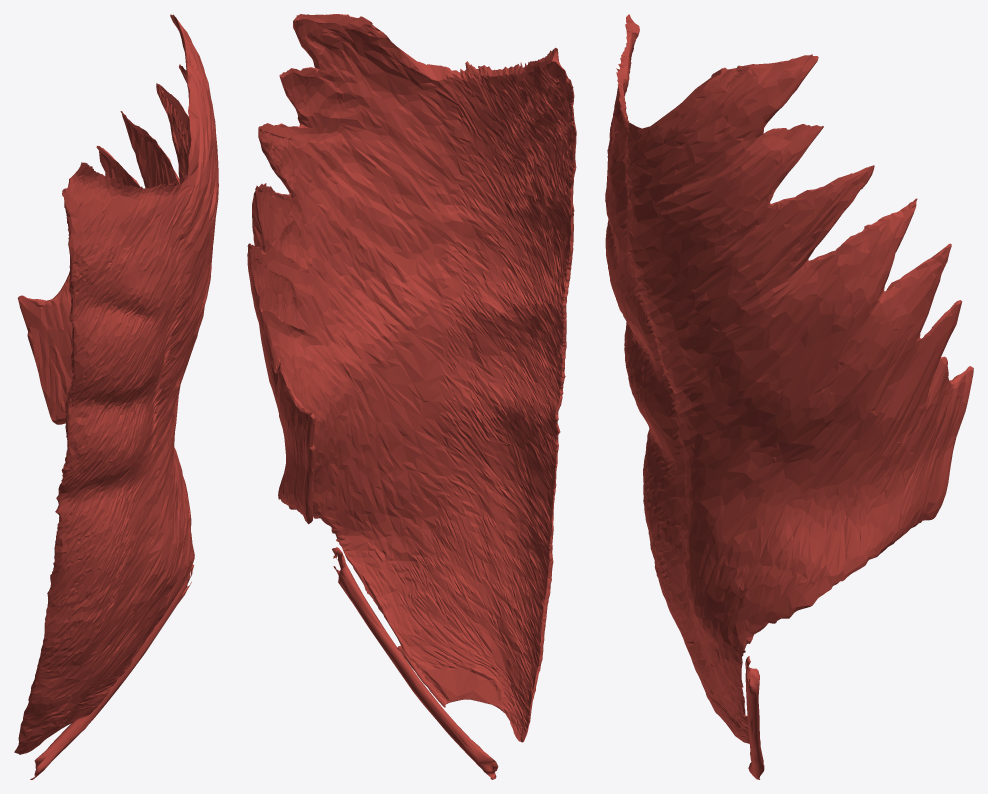
File: musculos-external-abdominal-oblique-muscle-l.glb
3 renders of one model, left to right at view 1: azimuth 30°, elevation 25°; view 2: azimuth 150°, elevation 25°; view 3: azimuth 270°, elevation 25°, orthographic. The views are drawn at different scales.
Visible parts, largest first — view 1: External abdominal oblique muscle.l, Inguinal ligament.l; view 2: External abdominal oblique muscle.l, Inguinal ligament.l; view 3: External abdominal oblique muscle.l, Inguinal ligament.l.
Part boxes in pixels (<box>): External abdominal oblique muscle.l: <box>14,14,218,754</box>; Inguinal ligament.l: <box>30,564,193,779</box>; External abdominal oblique muscle.l: <box>247,14,576,742</box>; Inguinal ligament.l: <box>332,547,498,779</box>; External abdominal oblique muscle.l: <box>605,14,973,743</box>; Inguinal ligament.l: <box>745,656,764,779</box>.
Bounding box in the file's own units: 0.1362 × 0.4408 × 0.18.
